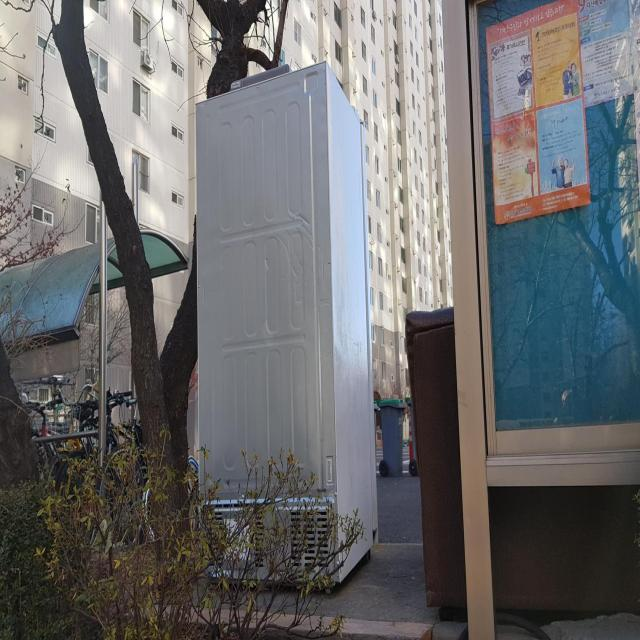refrigerator: (189, 55, 381, 596)
